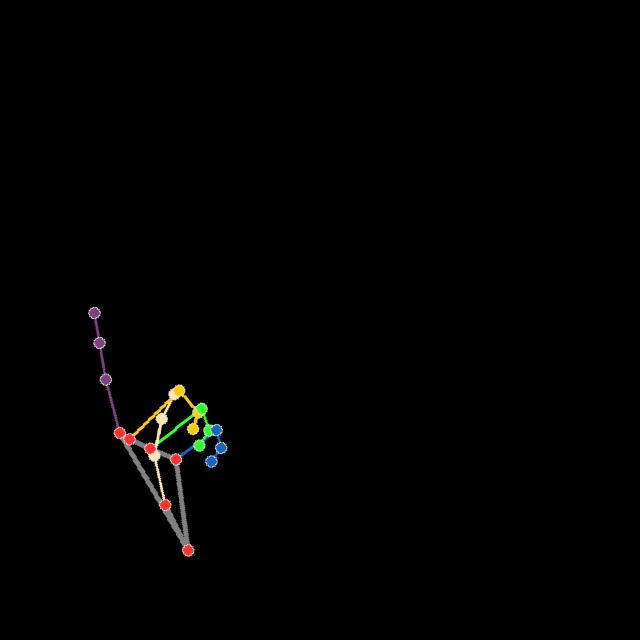gun: (88, 298, 228, 558)
